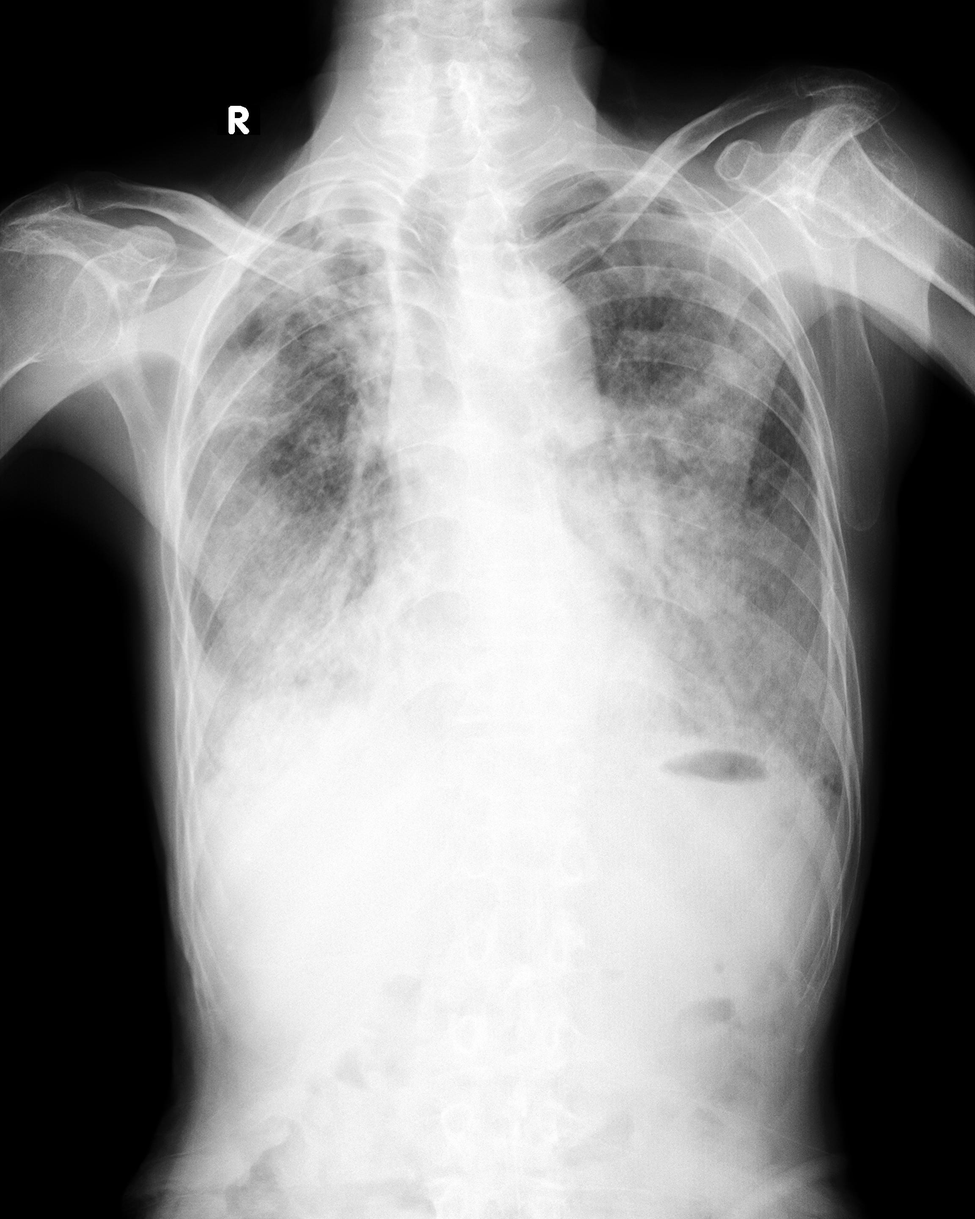Aortic enlargement: (482, 280, 599, 411)
Pulmonary fibrosis: (624, 203, 835, 777), (237, 190, 384, 452)
